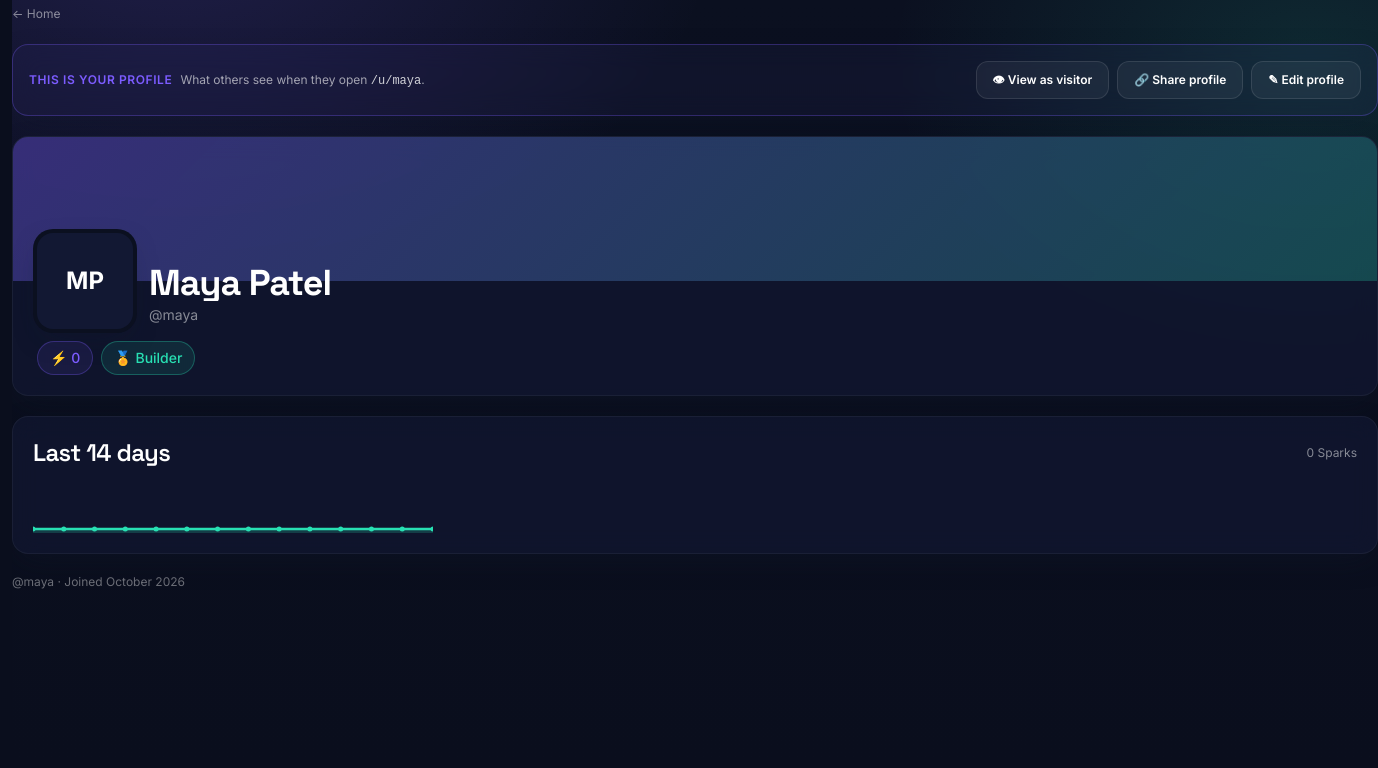
Test case: Profile view › View as visitor: hides Follow / Block on own profile, keeps the toggle visible
The image size is (1378, 768).
Check: the text "This is your profile" is shown, box left=29, top=72, right=172, bottom=88
# Click "View as visitor".
Click the button "👁 View as visitor": (1042, 80) left=976, top=61, right=1109, bottom=99
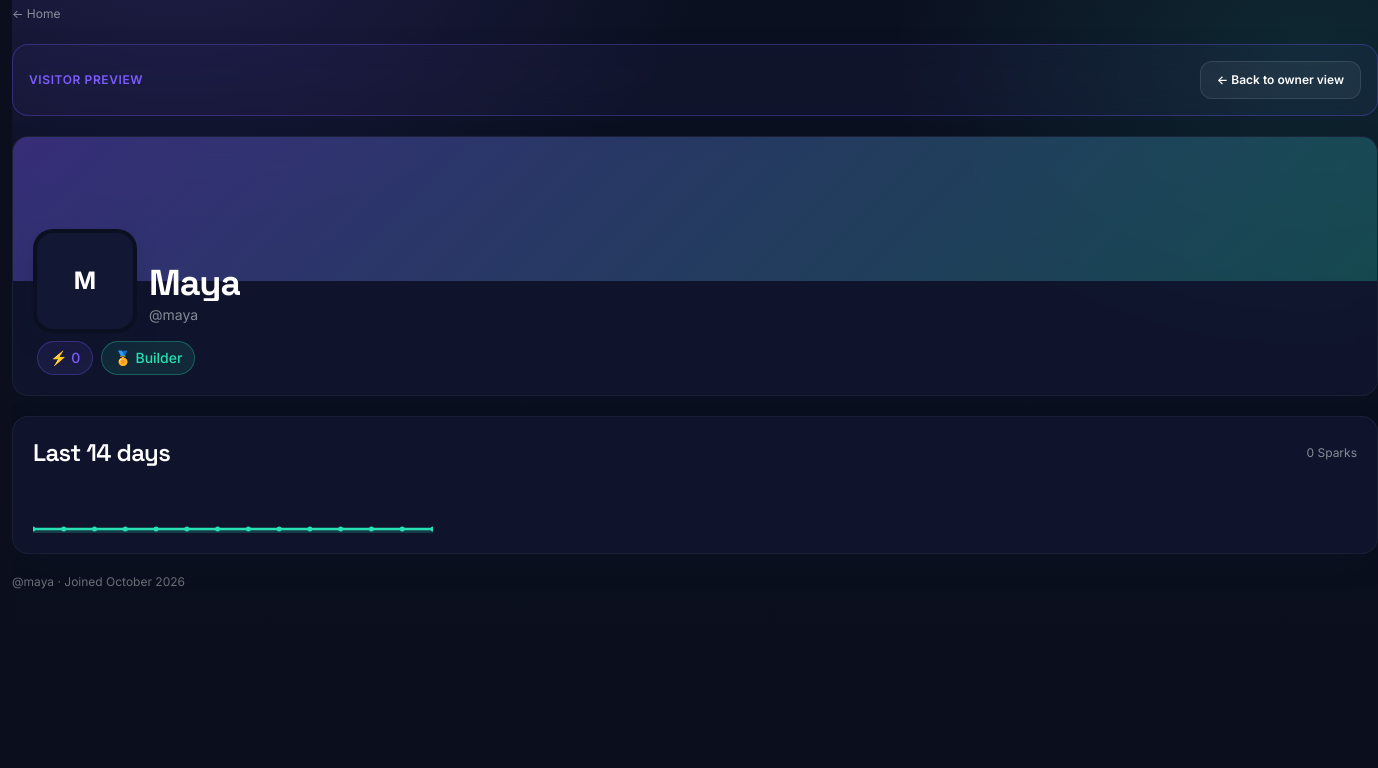
Check: the button "← Back to owner view" is shown, box left=1200, top=61, right=1361, bottom=99
Check: the text "Visitor preview" is shown, box left=29, top=72, right=143, bottom=88
